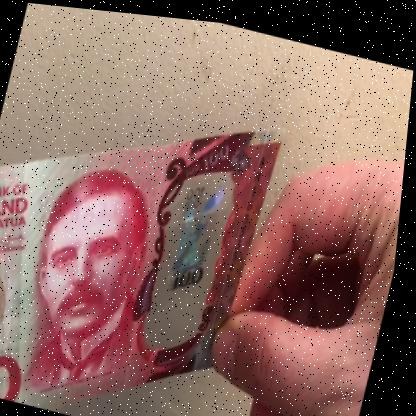100F: (156, 167, 235, 339)
